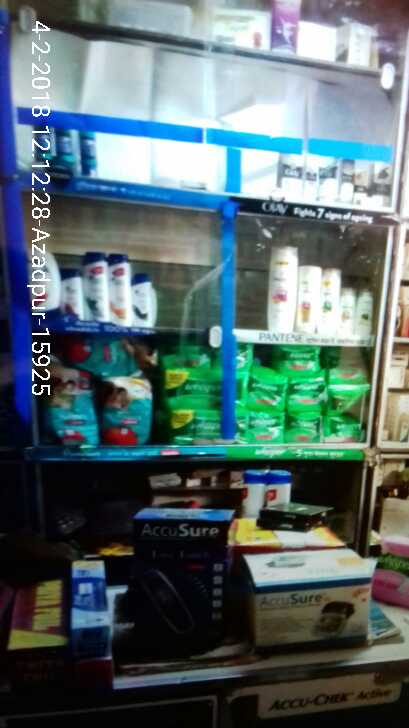vicks: (36, 121, 100, 179)
